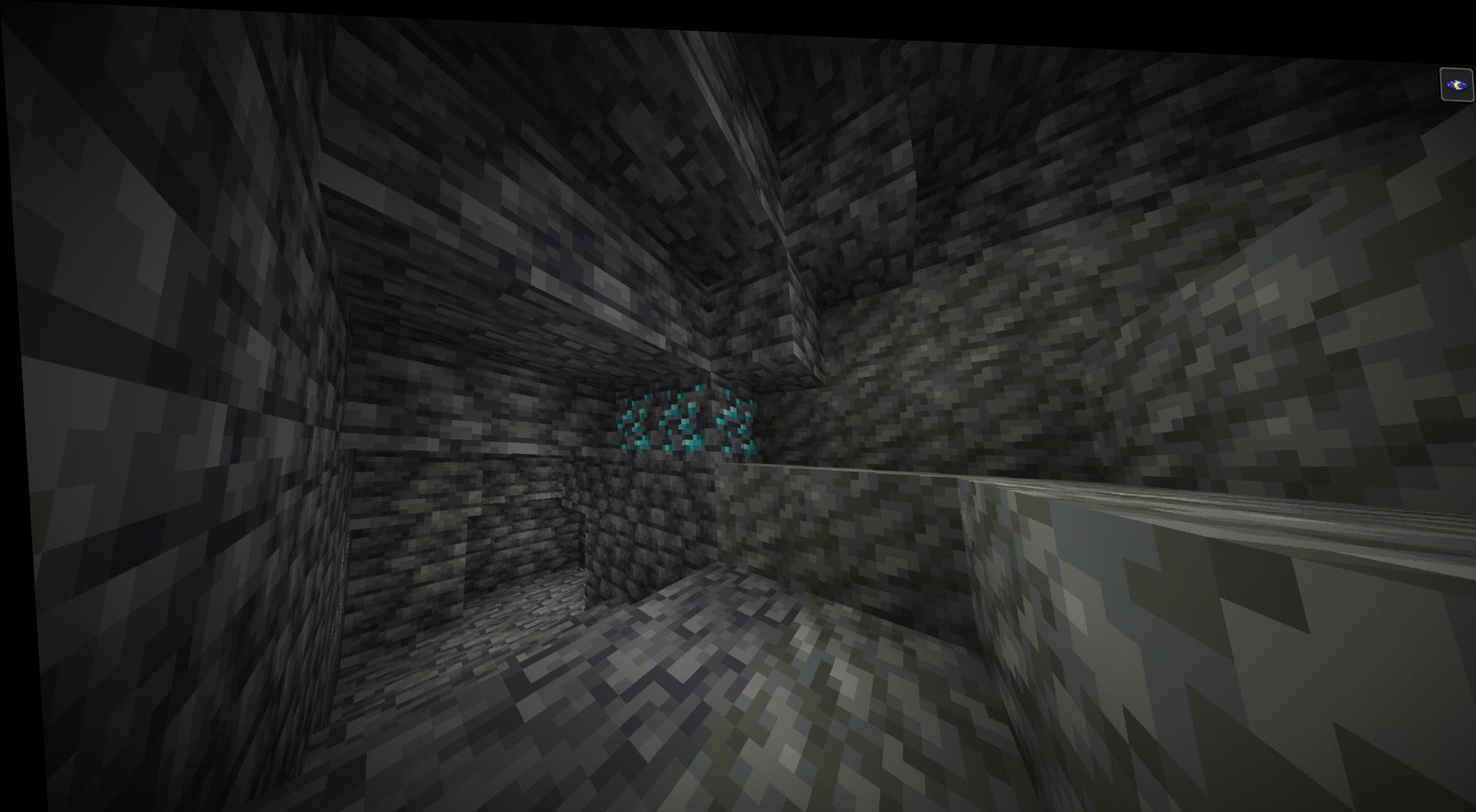diamond ore: (652, 376, 706, 455), (606, 379, 656, 459), (705, 383, 757, 455)
